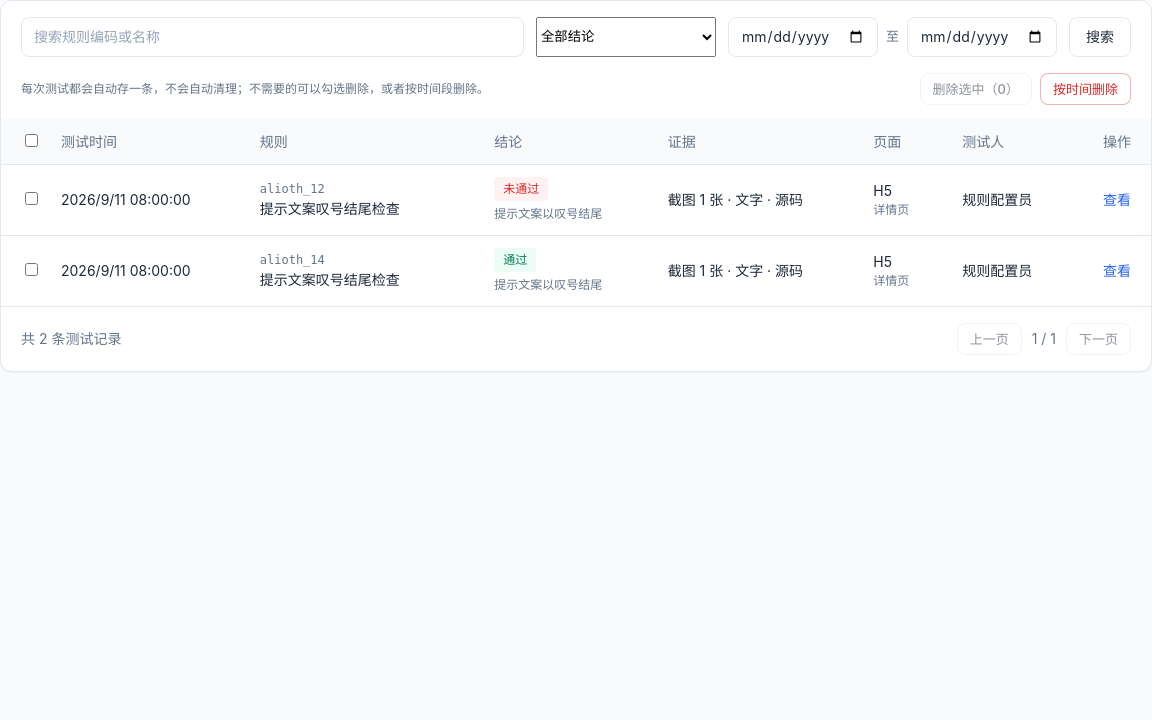
Test: 规则测试记录 › 开始日期晚于结束日期时不统计、不能删
The width and height of the screenshot is (1152, 720).
Click the button with test id "rule-test-records-delete-by-time" at (1086, 89), box 1040,73 -> 1131,105
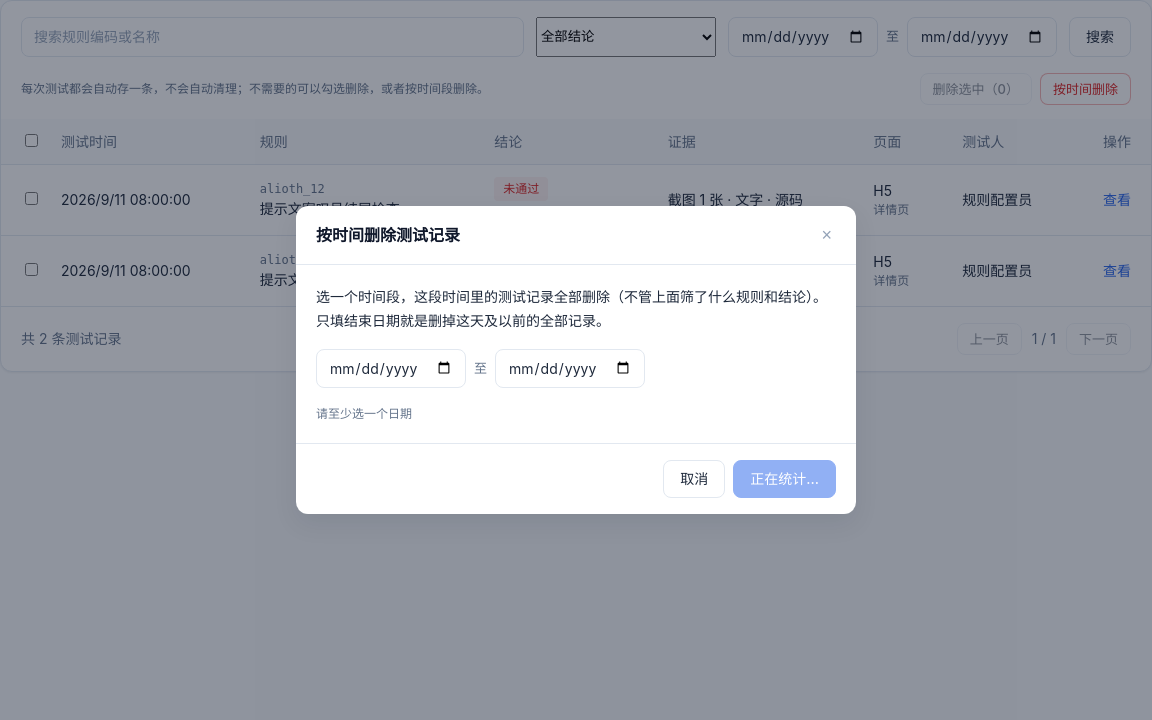
Type "2026-09-10" into the date field with test id "rule-test-records-time-from" at (391, 368), box 316,349 -> 466,388
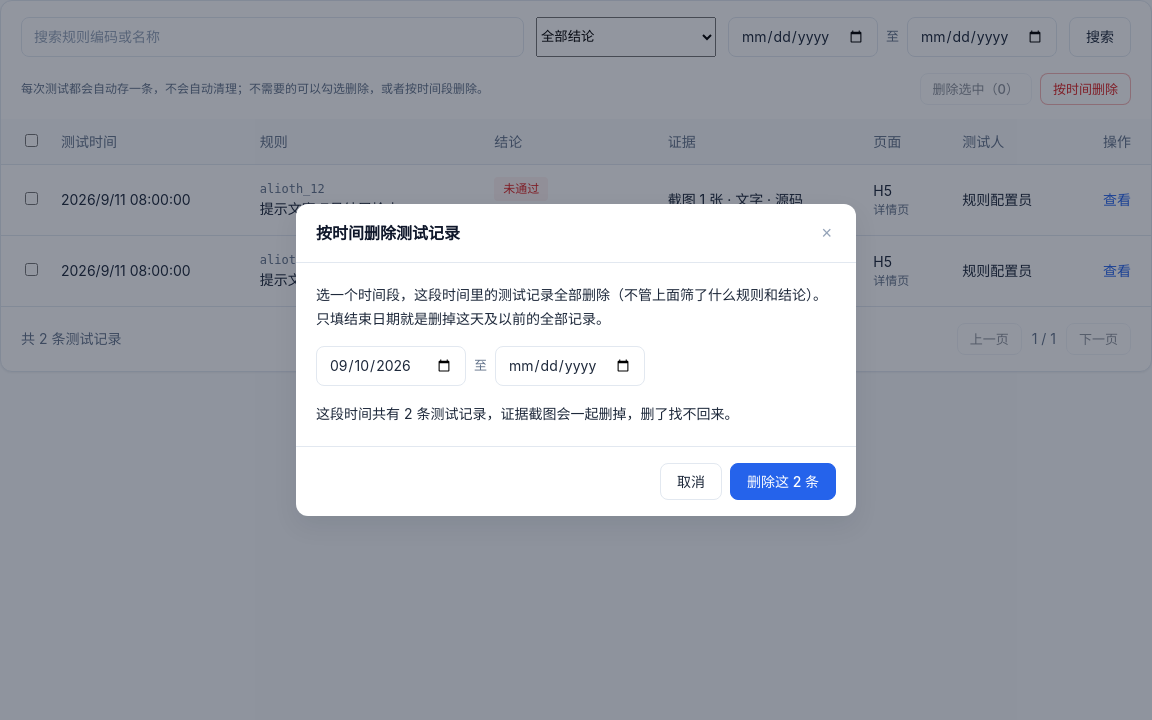
Type "2026-09-01" into the date field with test id "rule-test-records-time-to" at (570, 366), box 495,346 -> 645,386
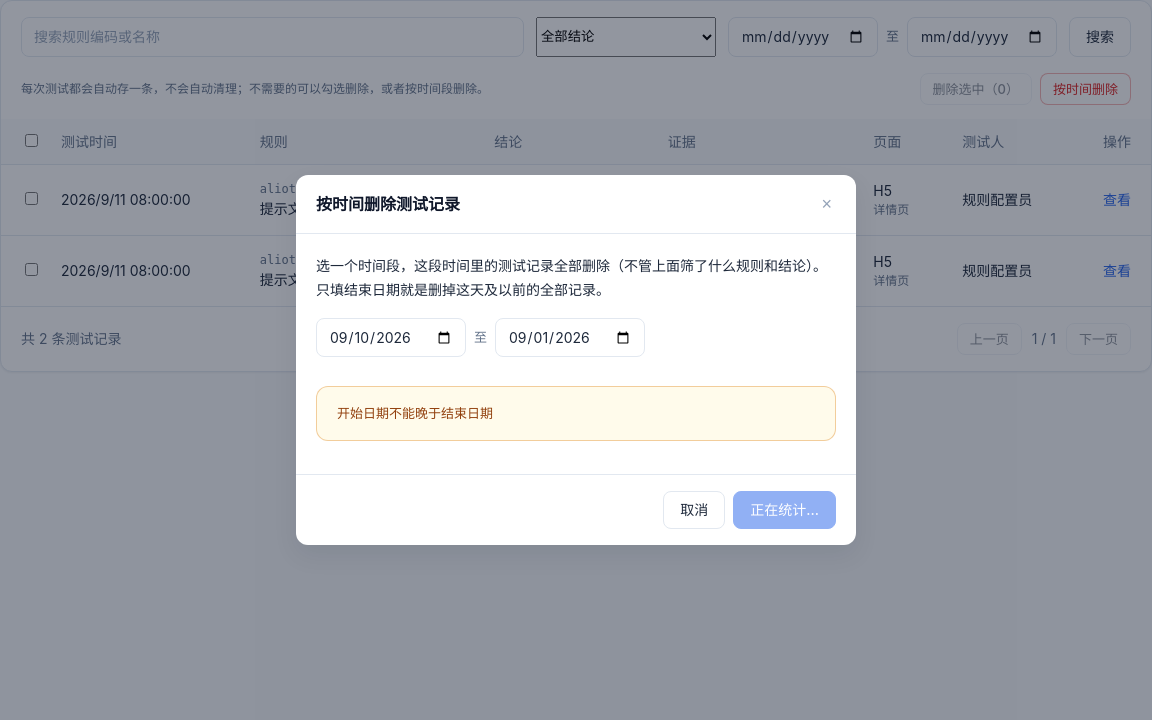
Expected: the element with test id "rule-test-records-confirm-time" shows "开始日期不能晚于结束日期", 337,405 -> 493,421
Expected: the button with test id "rule-test-records-confirm-time-ok" is disabled, 733,491 -> 836,529
